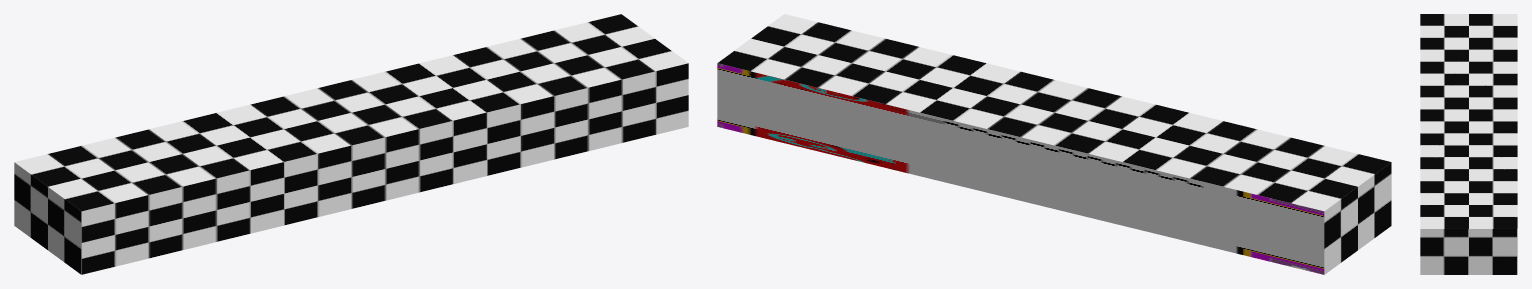
File: starting_point.FBX
3 renders of one model, left to right at view 1: azimuth 30°, elevation 25°; view 2: azimuth 150°, elevation 25°; view 3: azimuth 270°, elevation 25°, orthographic. The views are drawn at different scales.
Visible parts, largest first — view 1: starting_point; view 2: starting_point; view 3: starting_point.
Part boxes in pixels (x1=…): starting_point: x1=14, y1=14, x2=688, y2=274; starting_point: x1=717, y1=14, x2=1391, y2=274; starting_point: x1=1420, y1=14, x2=1517, y2=274.
Size of the model in its own units: 561 by 56.09 by 108.
1 material, 1 textured.
